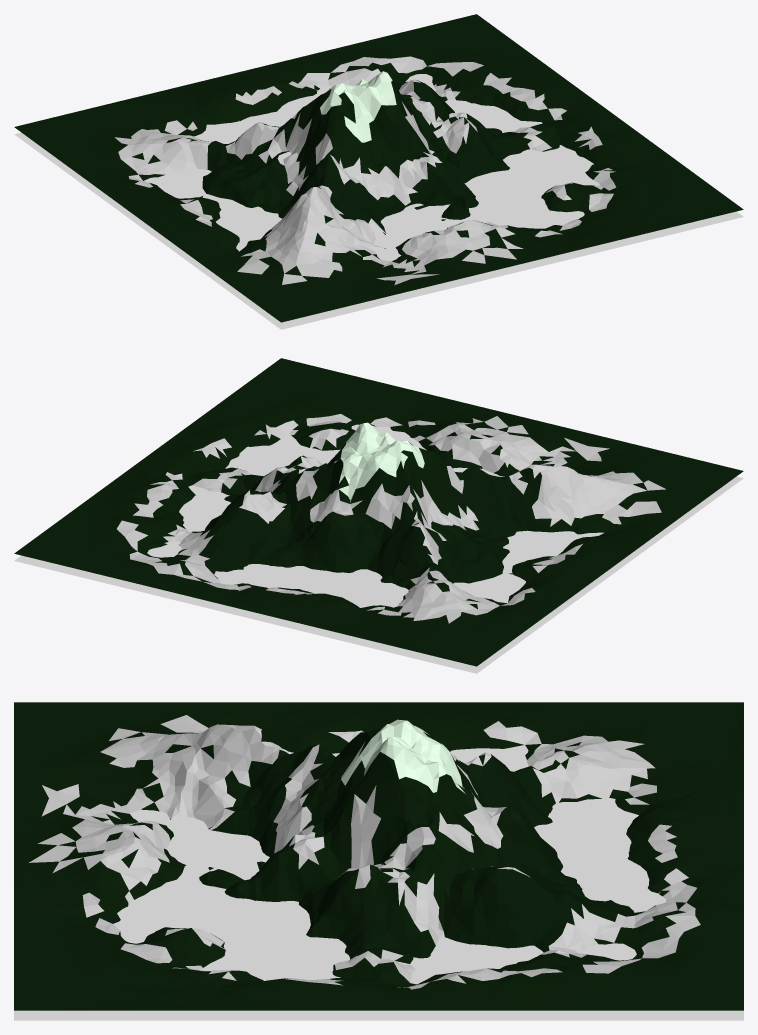
File: MountainLake.FBX
3 renders of one model, top to bottom at view 1: azimuth 30°, elevation 25°; view 2: azimuth 150°, elevation 25°; view 3: azimuth 270°, elevation 25°, orthographic. The views are drawn at different scales.
Parts seen in each view (by area): view 1: Landscape.003, Landscape_plane; view 2: Landscape.003, Landscape_plane; view 3: Landscape.003, Landscape_plane.
Part boxes in pixels (left/top/right/bottom): Landscape.003: left=14, top=14, right=743, bottom=322; Landscape_plane: left=14, top=74, right=743, bottom=329; Landscape.003: left=14, top=358, right=743, bottom=666; Landscape_plane: left=14, top=424, right=743, bottom=673; Landscape.003: left=14, top=702, right=743, bottom=1010; Landscape_plane: left=14, top=745, right=743, bottom=1020.
Bounding box in the file's own units: 78.74 × 18.73 × 78.74.
